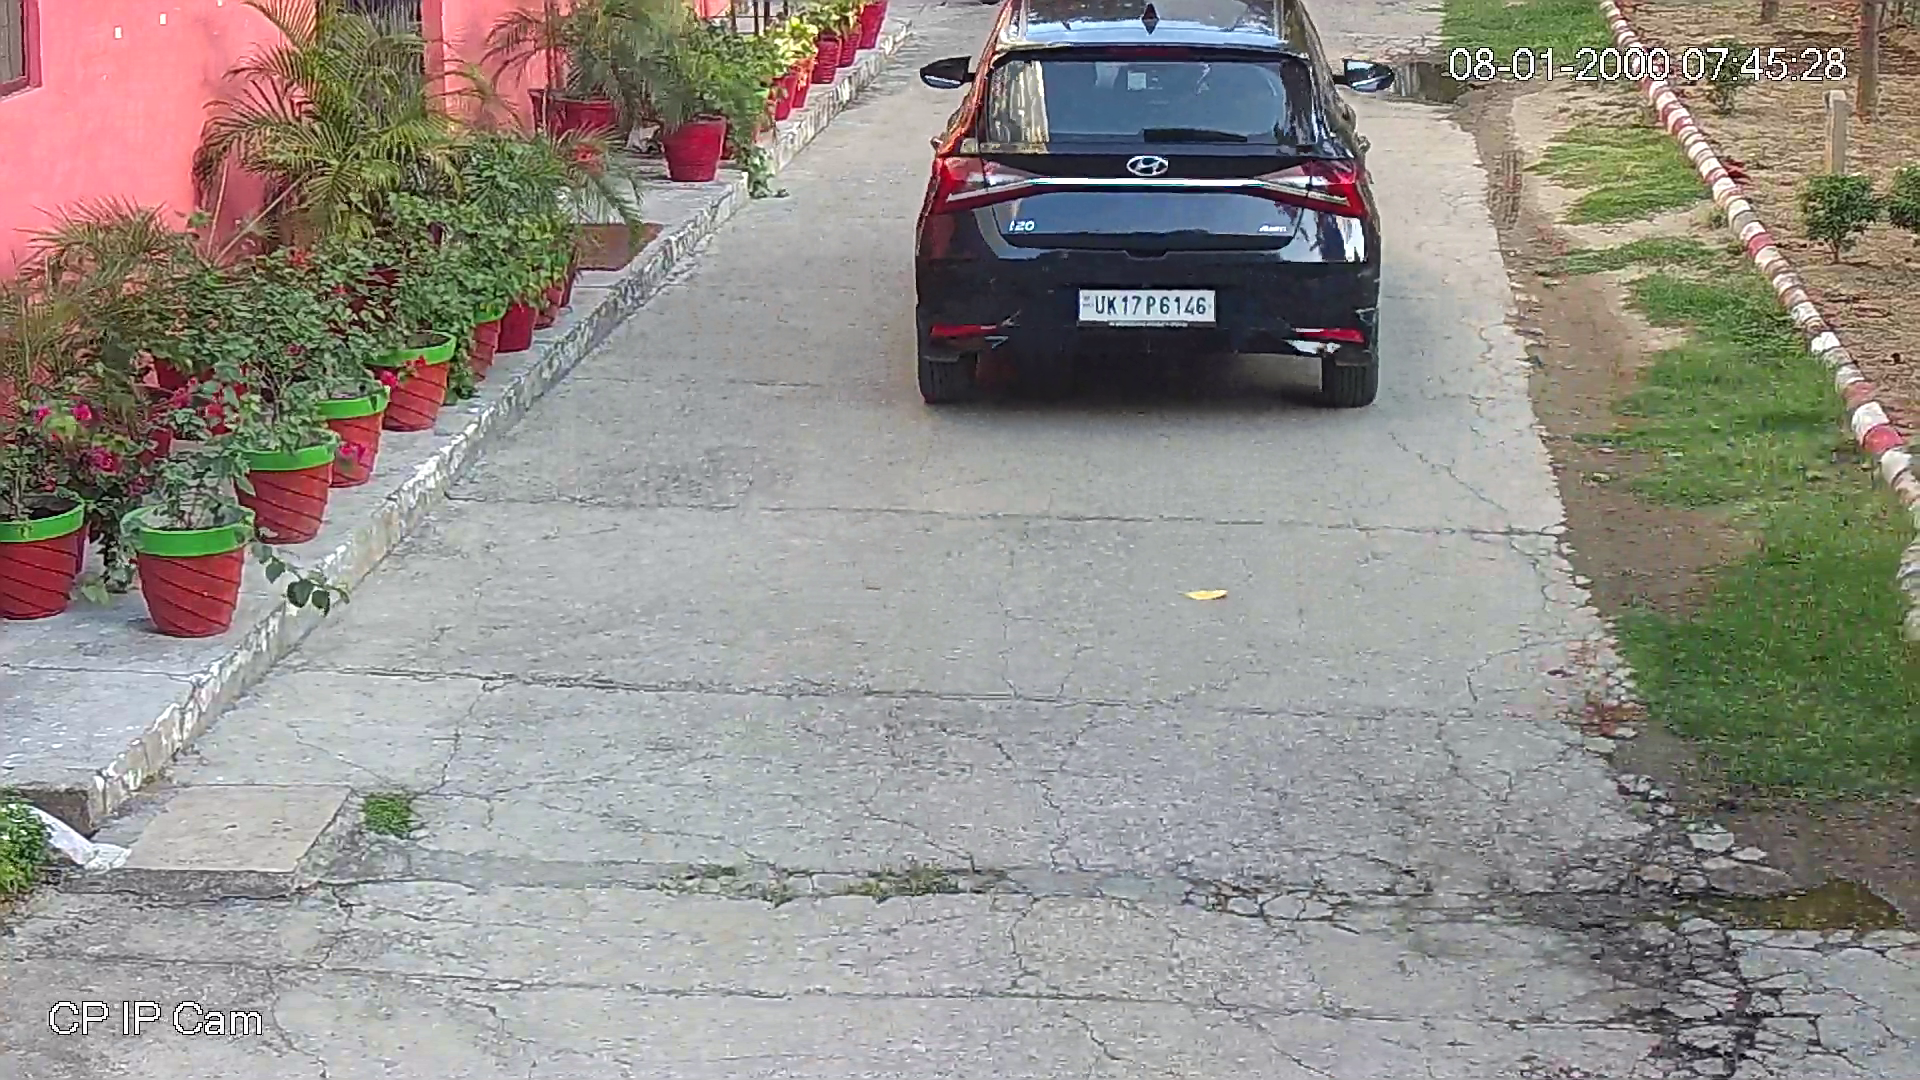plate: (1074, 284, 1220, 326)
